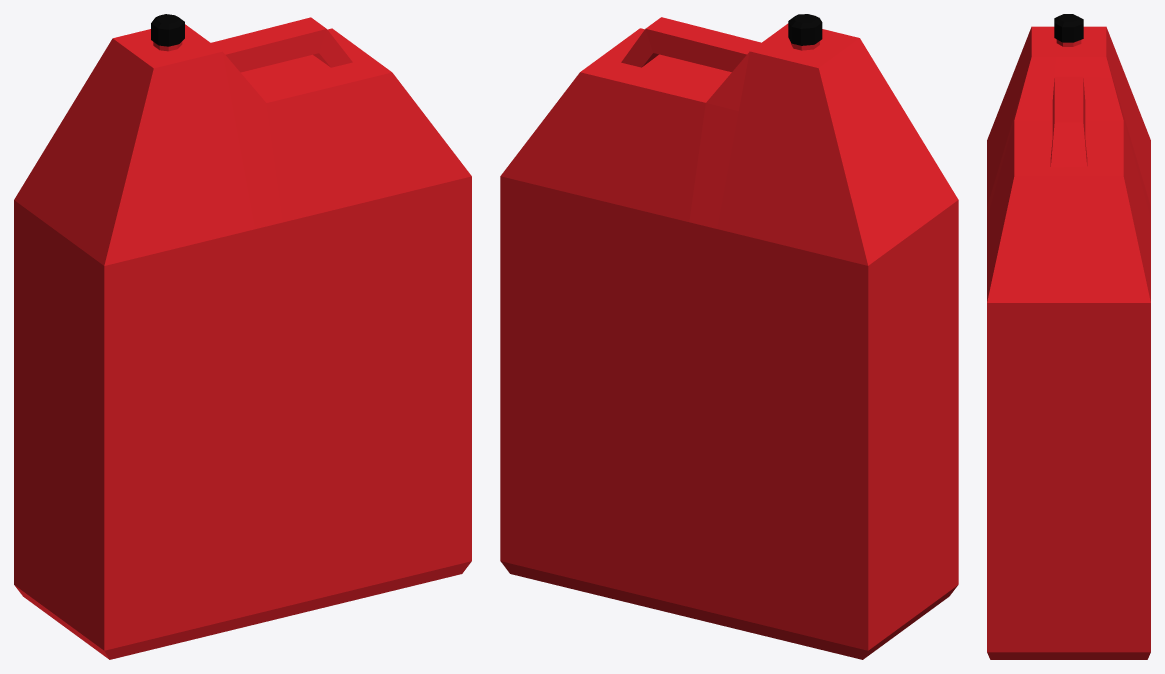
Rendered from bensajerry.fbx.
3 views of the same model, side by side, from view 1: azimuth 30°, elevation 25°; view 2: azimuth 150°, elevation 25°; view 3: azimuth 270°, elevation 25° (orthographic). The views are drawn at different scales.
Parts seen in each view (by area): view 1: Cylinder; view 2: Cylinder; view 3: Cylinder.
Part boxes in pixels (x1,y1,x2,y2): Cylinder: (14,14,471,659); Cylinder: (500,14,958,659); Cylinder: (987,14,1150,659).
Bounding box in the file's own units: 2 × 0.851 × 3.04.
